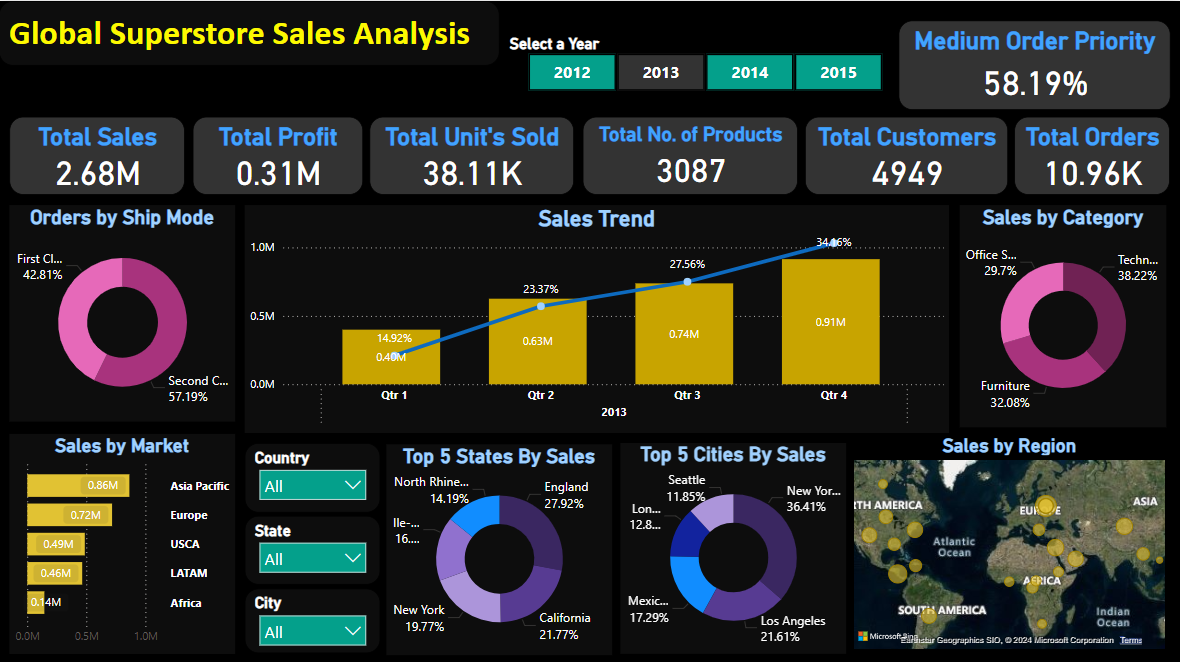

The dashboard page shown, as its layout file describes it:
{"tool":"powerbi","page":{"name":"Page 1","canvas":[1280,720],"ordinal":0},"visuals":[{"type":"card","title":"Total Profit","fields":{"Values":["Orders.Total Profit"]},"box":[210,125.7,184.3,84.3],"z":0},{"type":"card","title":"Total Sales","fields":{"Values":["Orders.Total Sales"]},"box":[11.4,125.7,190,84.3],"z":1000},{"type":"card","title":"Total Customers","fields":{"Values":["Orders.Total Customers"]},"box":[872.9,125.7,220,84.3],"z":2000},{"type":"card","title":"Total Orders","fields":{"Values":["Orders.Total Orders"]},"box":[1100,125.7,168.6,84.3],"z":3000},{"type":"textbox","box":[0,0,542.3,70],"z":4000},{"type":"lineClusteredColumnComboChart","title":"Sales Trend","fields":{"Y":["Orders.Total Sales"],"Y2":["Divide(Orders.Total Sales, ScopedEval(Orders.Total Sales, []))"],"Category":["Orders.Order Date.Variation.Date Hierarchy.Year","Orders.Order Date.Variation.Date Hierarchy.Quarter"]},"box":[265.7,221.4,762.9,247.1],"z":5000},{"type":"card","title":"Total No. of Products","fields":{"Values":["Orders.Total No. of Products"]},"box":[632.9,125.7,232.9,84.3],"z":6000},{"type":"card","title":"Total Unit''s Sold","fields":{"Values":["Orders.Total Qty's Sold"]},"box":[401.4,125.7,221.4,84.3],"z":7000},{"type":"slicer","title":"Select a Year","fields":{"Values":["Orders.Order Date.Variation.Date Hierarchy.Year"]},"box":[542.9,31.4,444.3,77.1],"z":8000},{"type":"slicer","title":"State","fields":{"Values":["Orders.State"]},"box":[265.7,557.1,147.1,74.3],"z":9000},{"type":"slicer","title":"Country","fields":{"Values":["Orders.Country"]},"box":[265.7,478.6,147.1,75.7],"z":10000},{"type":"slicer","title":"City","fields":{"Values":["Orders.City"]},"box":[265.7,637.1,147.1,70],"z":11000},{"type":"donutChart","title":"Orders by Ship Mode","fields":{"Category":["Orders.Ship Mode"],"Y":["CountNonNull(Orders.Order ID)"]},"box":[11.4,221.4,244.3,234.3],"z":12000},{"type":"barChart","title":"Sales by Market","fields":{"Y":["Sum(Orders.Sales)"],"Category":["Orders.Market"]},"box":[11.4,468.6,244.3,238.6],"z":13000},{"type":"donutChart","title":"Sales by Category","fields":{"Category":["Orders.Category"],"Y":["Sum(Orders.Sales)"]},"box":[1040.7,220.9,223.7,240.7],"z":14000},{"type":"map","title":"Sales by Region","fields":{"Category":["Orders.Region"],"Size":["Sum(Orders.Sales)"]},"box":[921.4,468.6,347.1,238.6],"z":15000},{"type":"donutChart","title":"Top 5 States By Sales","fields":{"Category":["Orders.State"],"Y":["Sum(Orders.Sales)"]},"box":[420,480,244.3,228.6],"z":16000},{"type":"donutChart","title":"Top 5 Cities By Sales","fields":{"Category":["Orders.City"],"Y":["Sum(Orders.Sales)"]},"box":[672.9,478.6,244.3,228.6],"z":17000},{"type":"card","title":"Medium Order Priority","fields":{"Values":["Orders.OrderPriority2Percent"]},"box":[974.3,21.4,294.3,97.1],"z":18000}]}

Visuals, with their boxes in screenshot pixels (x1, y1, x2, y2), scaled from the page's 1280x720 canvas onto the 1180x662 screenshot:
"Total Profit" card: (x1=194, y1=116, x2=363, y2=193)
"Total Sales" card: (x1=11, y1=116, x2=186, y2=193)
"Total Customers" card: (x1=805, y1=116, x2=1008, y2=193)
"Total Orders" card: (x1=1014, y1=116, x2=1169, y2=193)
textbox: (x1=0, y1=0, x2=500, y2=64)
"Sales Trend" lineClusteredColumnComboChart: (x1=245, y1=204, x2=948, y2=431)
"Total No. of Products" card: (x1=583, y1=116, x2=798, y2=193)
"Total Unit''s Sold" card: (x1=370, y1=116, x2=574, y2=193)
"Select a Year" slicer: (x1=500, y1=29, x2=910, y2=100)
"State" slicer: (x1=245, y1=512, x2=381, y2=581)
"Country" slicer: (x1=245, y1=440, x2=381, y2=510)
"City" slicer: (x1=245, y1=586, x2=381, y2=650)
"Orders by Ship Mode" donutChart: (x1=11, y1=204, x2=236, y2=419)
"Sales by Market" barChart: (x1=11, y1=431, x2=236, y2=650)
"Sales by Category" donutChart: (x1=959, y1=203, x2=1166, y2=424)
"Sales by Region" map: (x1=849, y1=431, x2=1169, y2=650)
"Top 5 States By Sales" donutChart: (x1=387, y1=441, x2=612, y2=652)
"Top 5 Cities By Sales" donutChart: (x1=620, y1=440, x2=846, y2=650)
"Medium Order Priority" card: (x1=898, y1=20, x2=1169, y2=109)
